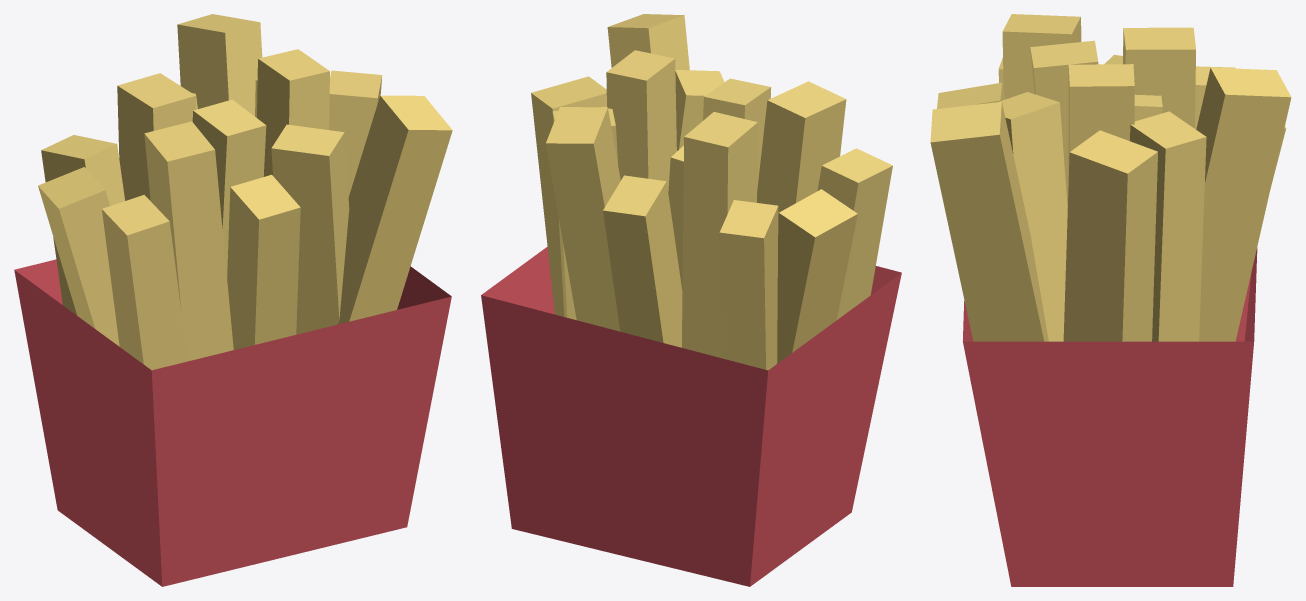
The model's file is french_fries.glb.
3 views of the same model, side by side, from view 1: azimuth 30°, elevation 25°; view 2: azimuth 150°, elevation 25°; view 3: azimuth 270°, elevation 25° (orthographic). The views are drawn at different scales.
Parts seen in each view (by area): view 1: Fries_Carton, Fry_04, Fry_02, Fry_03, Fry_05, Fry_01, Fry_06, Fry_14, Fry_09, Fry_12, Fry_07, Fry_11 (+1 smaller); view 2: Fries_Carton, Fry_12, Fry_14, Fry_13, Fry_06, Fry_11, Fry_02, Fry_09, Fry_01, Fry_10, Fry_04, Fry_07 (+3 smaller); view 3: Fries_Carton, Fry_04, Fry_10, Fry_14, Fry_15, Fry_05, Fry_12, Fry_09, Fry_02, Fry_07, Fry_03, Fry_08 (+1 smaller).
Boxes of the visible parts, x1,y1,x2,y2 form: Fries_Carton: [14, 259, 451, 586]; Fry_04: [337, 95, 452, 324]; Fry_02: [144, 121, 233, 361]; Fry_03: [227, 174, 300, 349]; Fry_05: [271, 124, 349, 334]; Fry_01: [102, 194, 187, 370]; Fry_06: [38, 167, 119, 346]; Fry_14: [177, 14, 262, 116]; Fry_09: [257, 49, 329, 176]; Fry_12: [117, 73, 196, 200]; Fry_07: [192, 99, 266, 277]; Fry_11: [41, 135, 124, 315]; Fries_Carton: [481, 246, 901, 586]; Fry_12: [682, 112, 757, 357]; Fry_14: [546, 107, 620, 331]; Fry_13: [603, 175, 682, 347]; Fry_06: [777, 189, 857, 363]; Fry_11: [719, 200, 778, 370]; Fry_02: [757, 81, 846, 212]; Fry_09: [606, 50, 676, 191]; Fry_01: [817, 148, 892, 319]; Fry_10: [531, 76, 606, 316]; Fry_04: [607, 14, 689, 70]; Fry_07: [703, 78, 771, 188]; Fries_Carton: [962, 247, 1257, 586]; Fry_04: [930, 101, 1048, 341]; Fry_10: [1063, 130, 1157, 341]; Fry_14: [1196, 67, 1291, 341]; Fry_15: [1130, 111, 1206, 341]; Fry_05: [999, 92, 1067, 341]; Fry_12: [1123, 27, 1195, 128]; Fry_09: [1068, 64, 1134, 176]; Fry_02: [1002, 14, 1081, 99]; Fry_07: [1030, 40, 1098, 207]; Fry_03: [937, 82, 1005, 108]; Fry_08: [1134, 94, 1162, 121].
Size of the model in its own units: 1.61 by 2.1 by 1.44.
